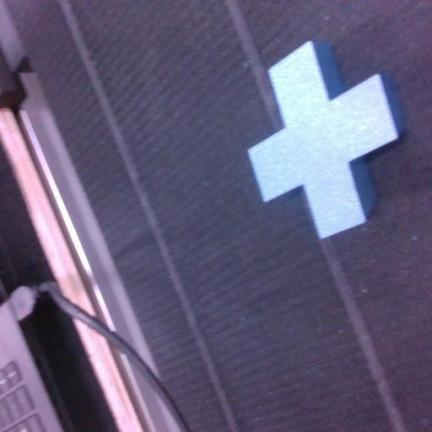cross: (249, 42, 402, 237)
